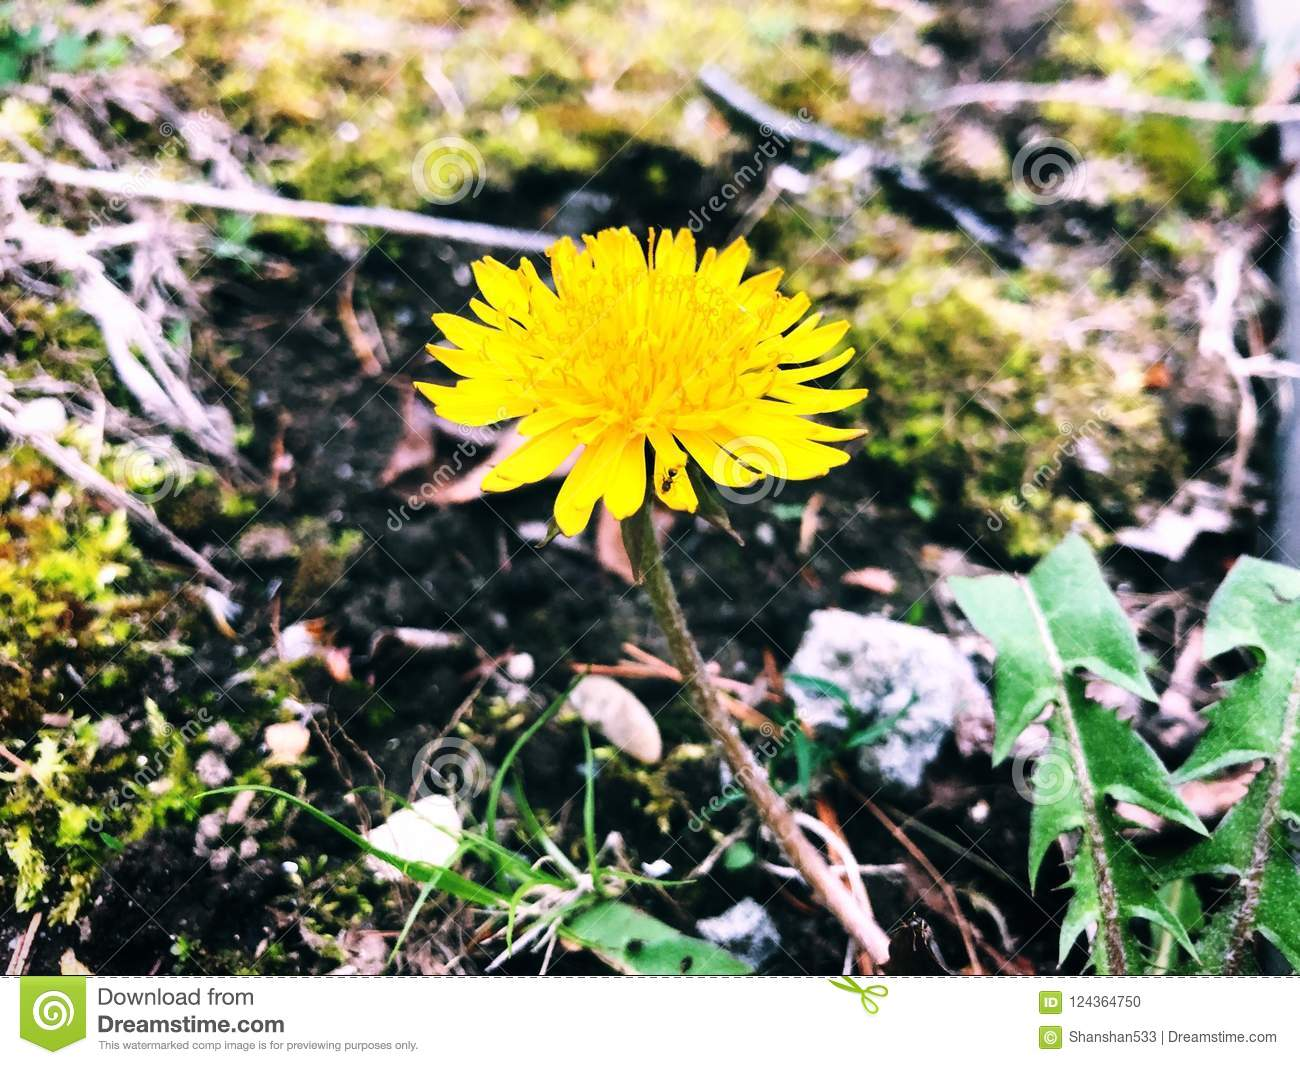dandelion: (418, 245, 835, 478)
